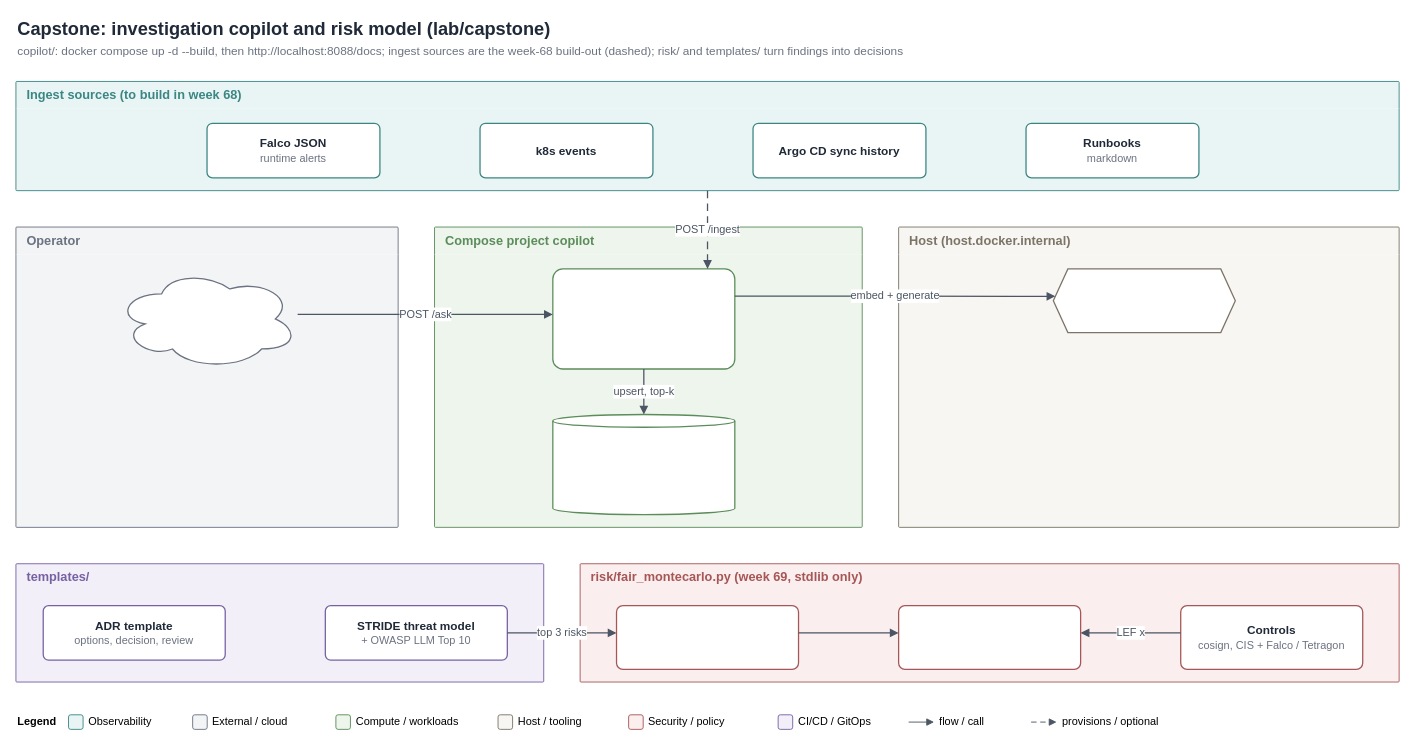
The diagram is 1415 pixels wide and 746 high, and some of its shapes have lost their labels. The centre of each missing label's shape, as x and y in pixels:
3 scenarios K8s API, supply chain, copilot leak: point (707, 637)
api (FastAPI, uid 10001) 8088:8000, POST /ingest, /ask: point (643, 318)
Ollama :11434 nomic-embed-text, llama3.2:1b: point (1144, 300)
Operator / eval set 20 questions, retrieval hit-rate: point (206, 318)
PERT x Poisson 20,000 runs, ALE in INR: point (989, 637)
qdrant :6333, collection ops (cosine): point (643, 464)
